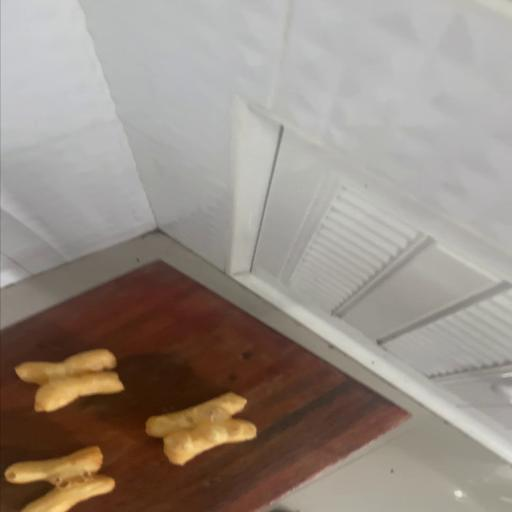street_golden_good: (16, 350, 124, 413)
